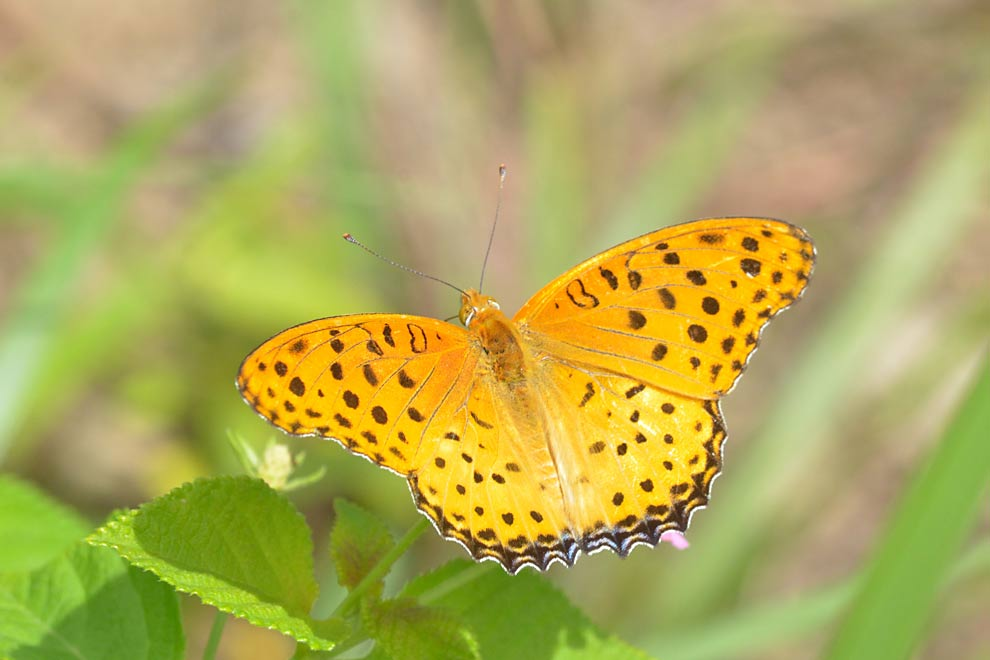Argyreus hyperbius: (236, 159, 833, 579)
butterfly: (234, 157, 831, 577)
